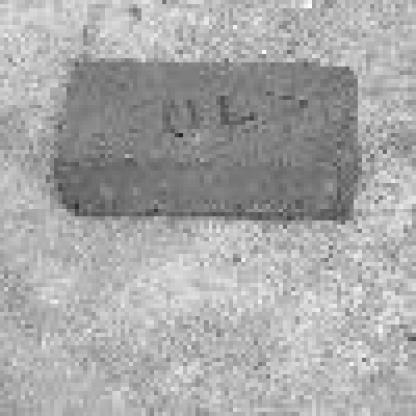brick: (55, 65, 365, 217)
